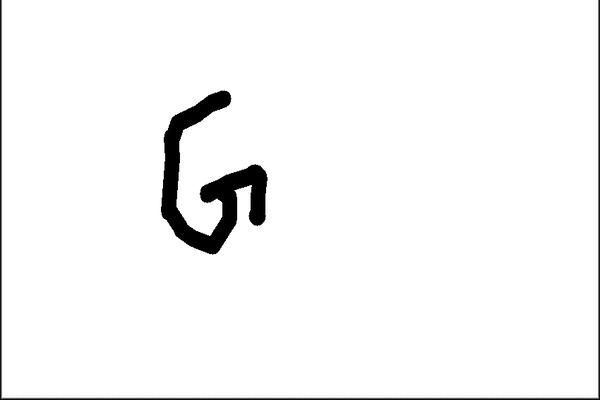G: (157, 89, 269, 259)
